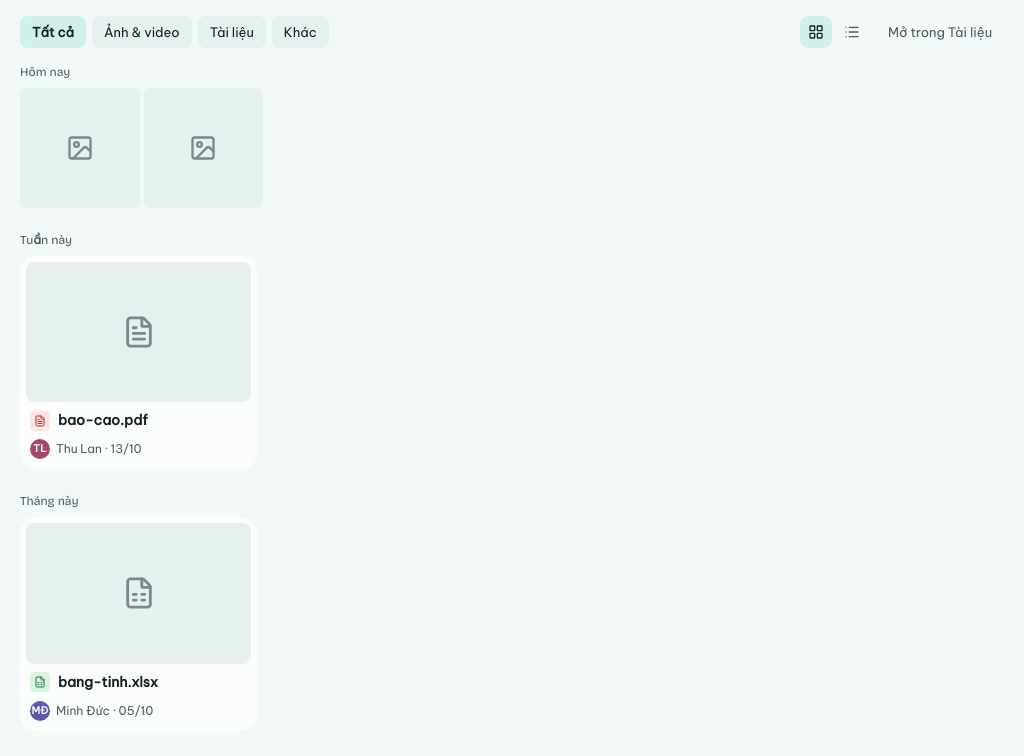
SpaceFiles › opens the viewer at the clicked file, opens in Tài liệu on demand and returns focus on Esc
The image size is (1024, 756).
Click the button "bao-cao.pdf TL Thu Lan · 13/10" at (138, 362), box [20,256,257,469]
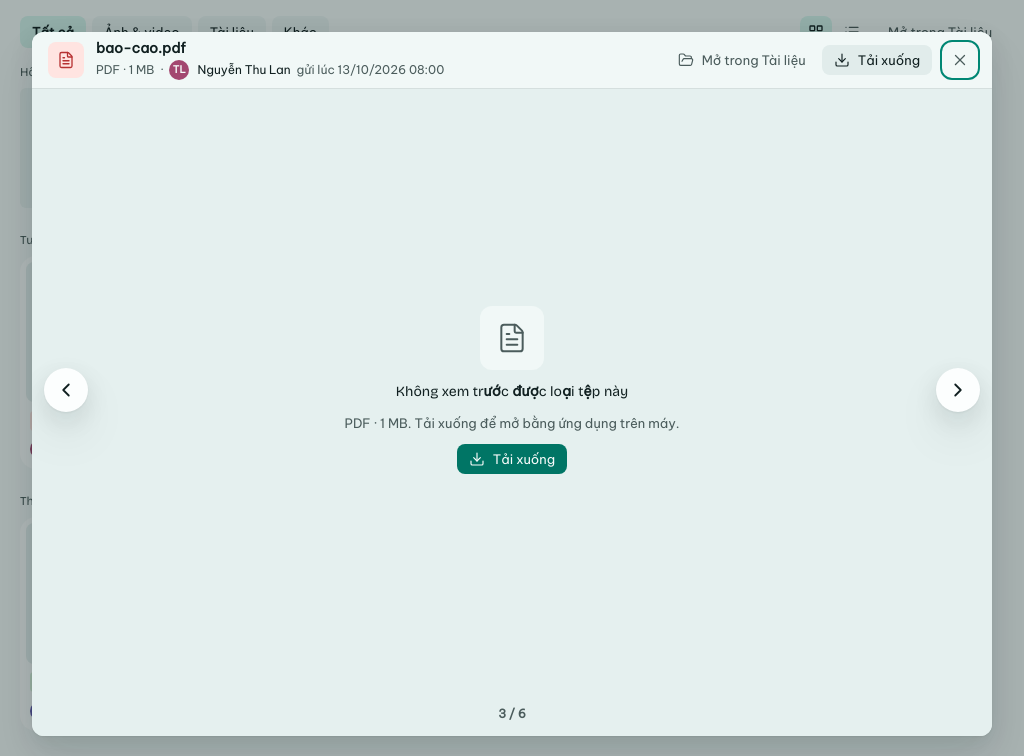
expect the text "gửi lúc 13/10/2026 08:00" is shown: met, box [297,62,444,78]
Click the button "Mở trong Tài liệu" at (742, 60), box [666,45,818,75]
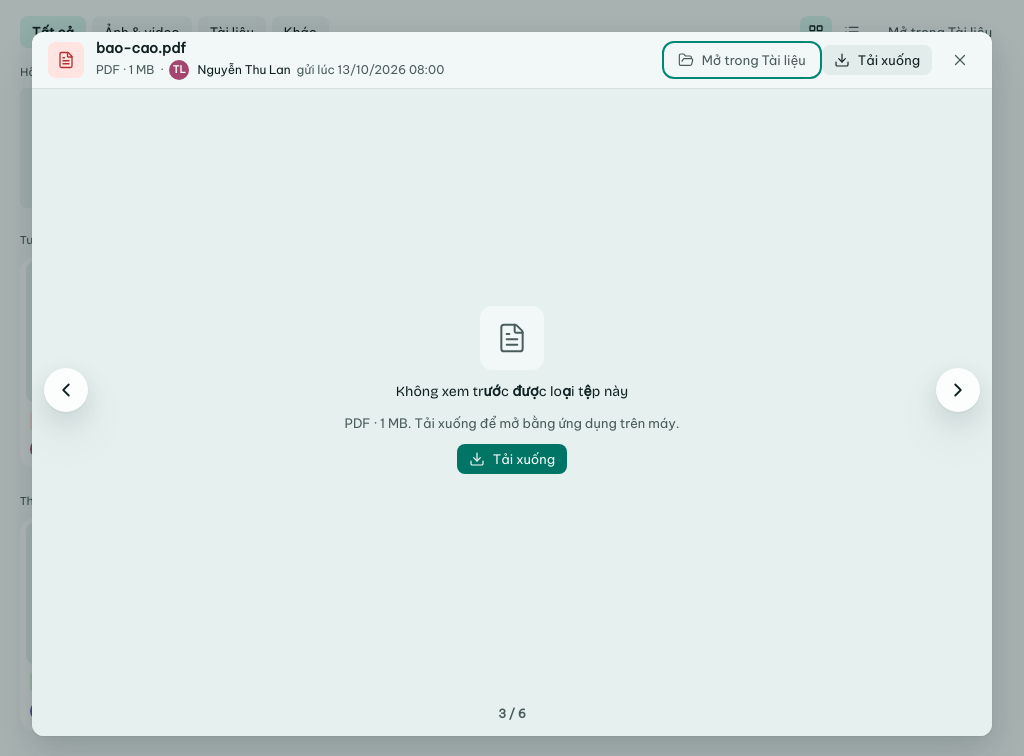
Press Escape
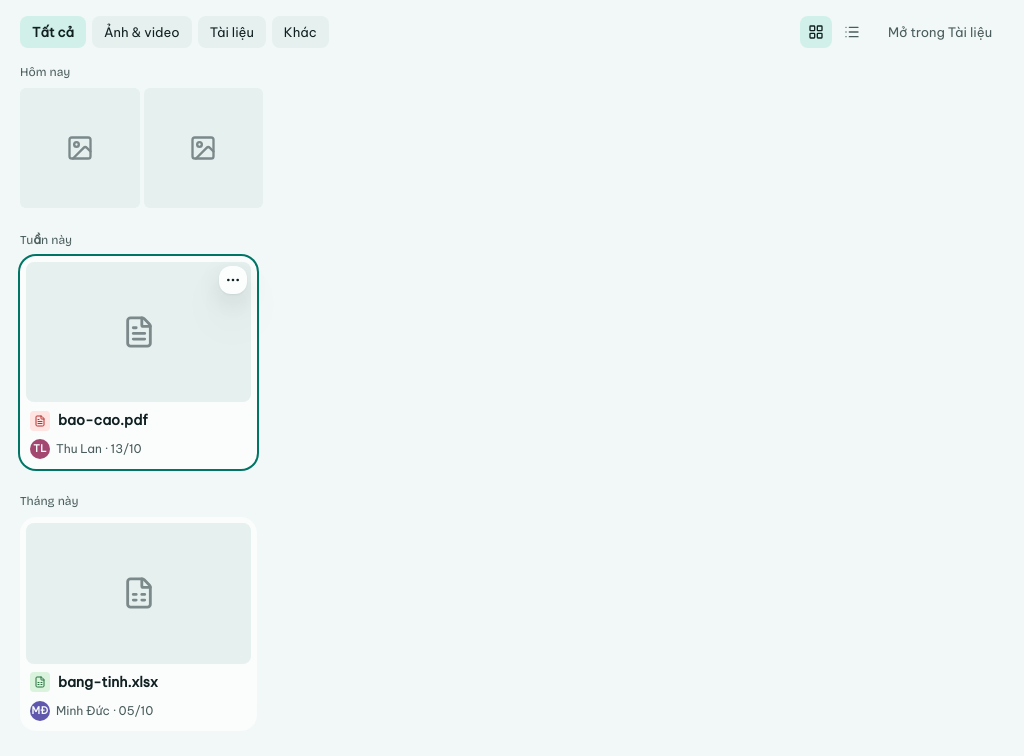
expect the dialog is gone: met
